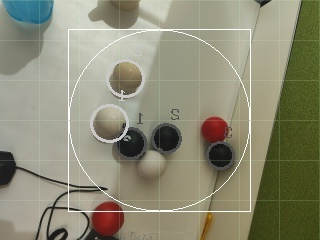Pelota blanca: (0, 7, 45, 76), (105, 59, 145, 100), (90, 103, 131, 142), (88, 0, 141, 30), (1, 0, 55, 24), (138, 149, 169, 180)
Pelota negra: (1, 0, 55, 24), (114, 127, 149, 159), (151, 121, 183, 154), (206, 141, 235, 171), (0, 149, 17, 186), (253, 0, 273, 6)
Pelota roja: (91, 209, 125, 237), (199, 115, 231, 142)
